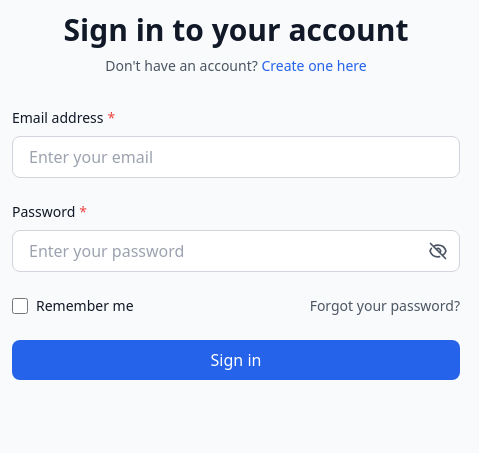
Test: SignInForm › displays validation errors for invalid input
Submit form with invalid fields
In the field with test id "email-input": (236, 157) left=12, top=136, right=460, bottom=178, type "invalid-email"
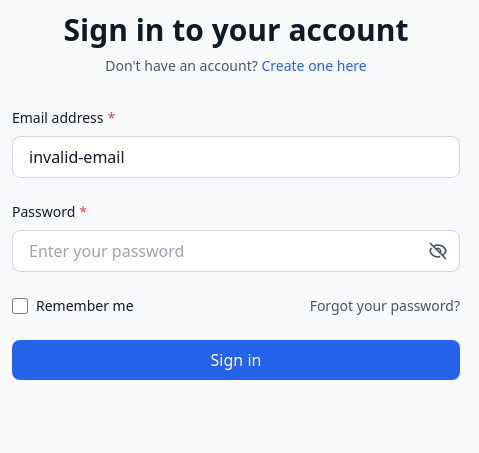
In the password field with test id "password-input": (236, 251) left=12, top=230, right=460, bottom=272, type "short"
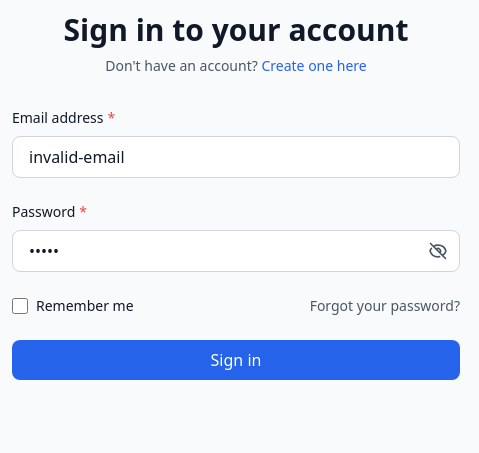
Submit the form, box left=12, top=108, right=460, bottom=380
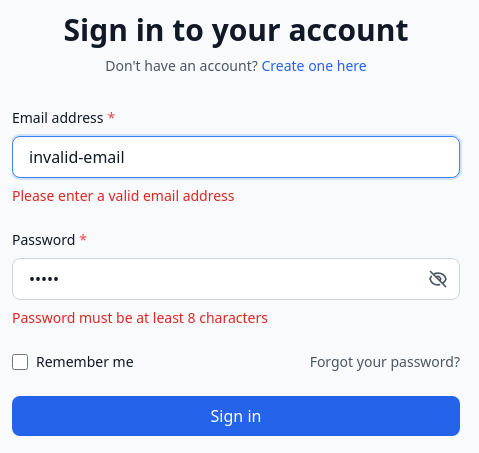
Now the number of messages is 2, box left=12, top=186, right=234, bottom=205; left=12, top=308, right=268, bottom=327
Now the message "Please enter a valid email address" is shown, box left=12, top=186, right=234, bottom=205
Now the message "Password must be at least 8 characters" is shown, box left=12, top=308, right=268, bottom=327
